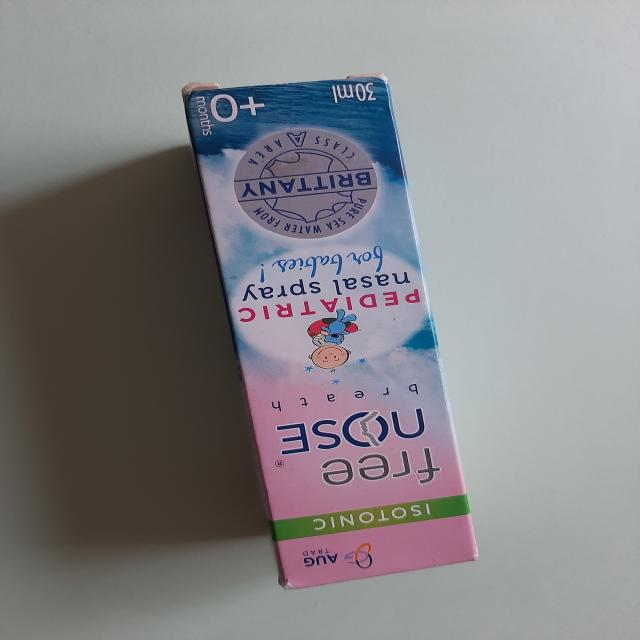Free Nose: (158, 64, 482, 584)
